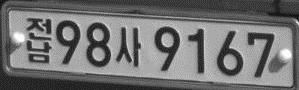1: (184, 27, 212, 73)
6: (215, 30, 243, 76)
7: (246, 31, 275, 78)
8: (85, 21, 111, 67)
9: (153, 25, 180, 71), (54, 19, 81, 64)
사: (115, 26, 141, 67)
전남_V: (24, 17, 51, 63)
